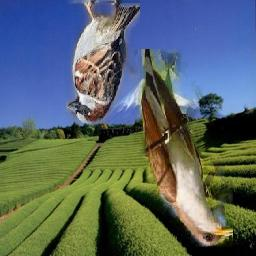Cuckoo: (135, 49, 234, 247)
Sparrow: (66, 0, 140, 124)
